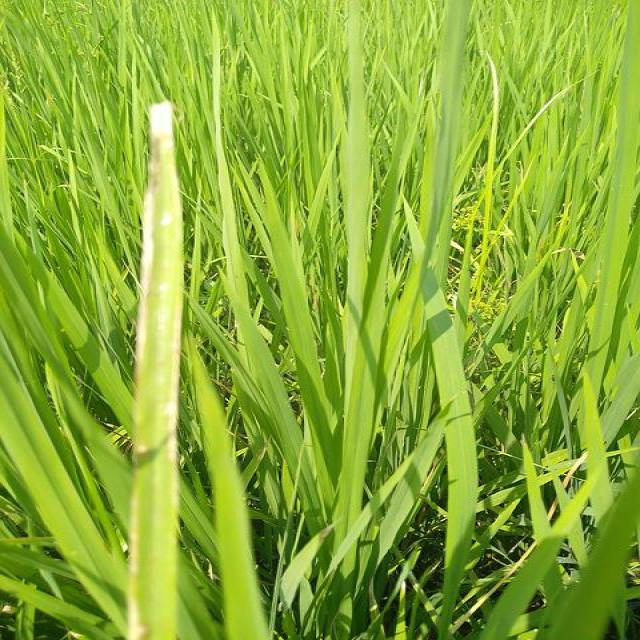Leaf Blight: (128, 102, 183, 639)
